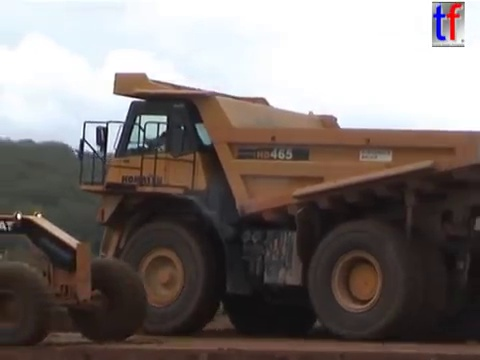motor grader: (1, 207, 149, 349)
truck: (73, 69, 480, 343)
